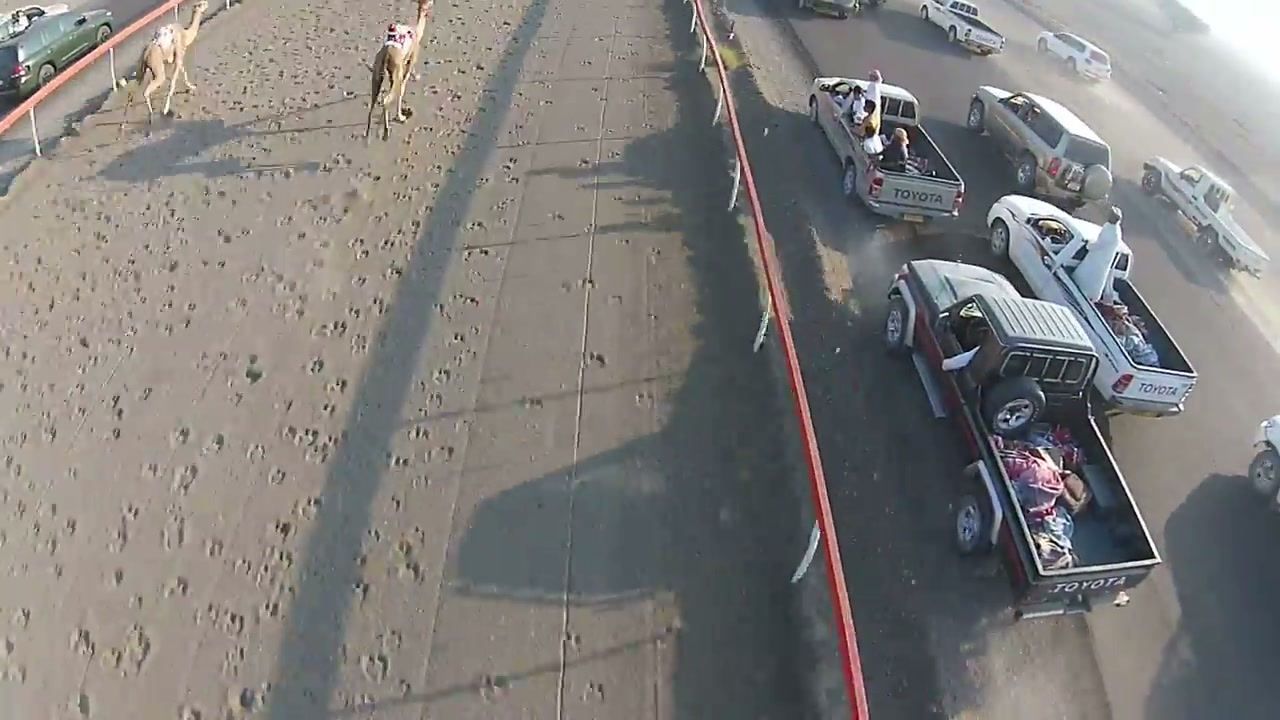animal_footprint: (62, 113, 451, 713), (328, 151, 506, 708), (38, 173, 228, 358)
